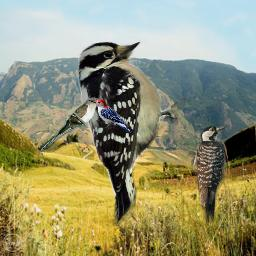Cuckoo: (38, 97, 105, 153)
Woodpecker: (75, 37, 191, 226), (184, 125, 229, 228), (88, 99, 132, 133)
